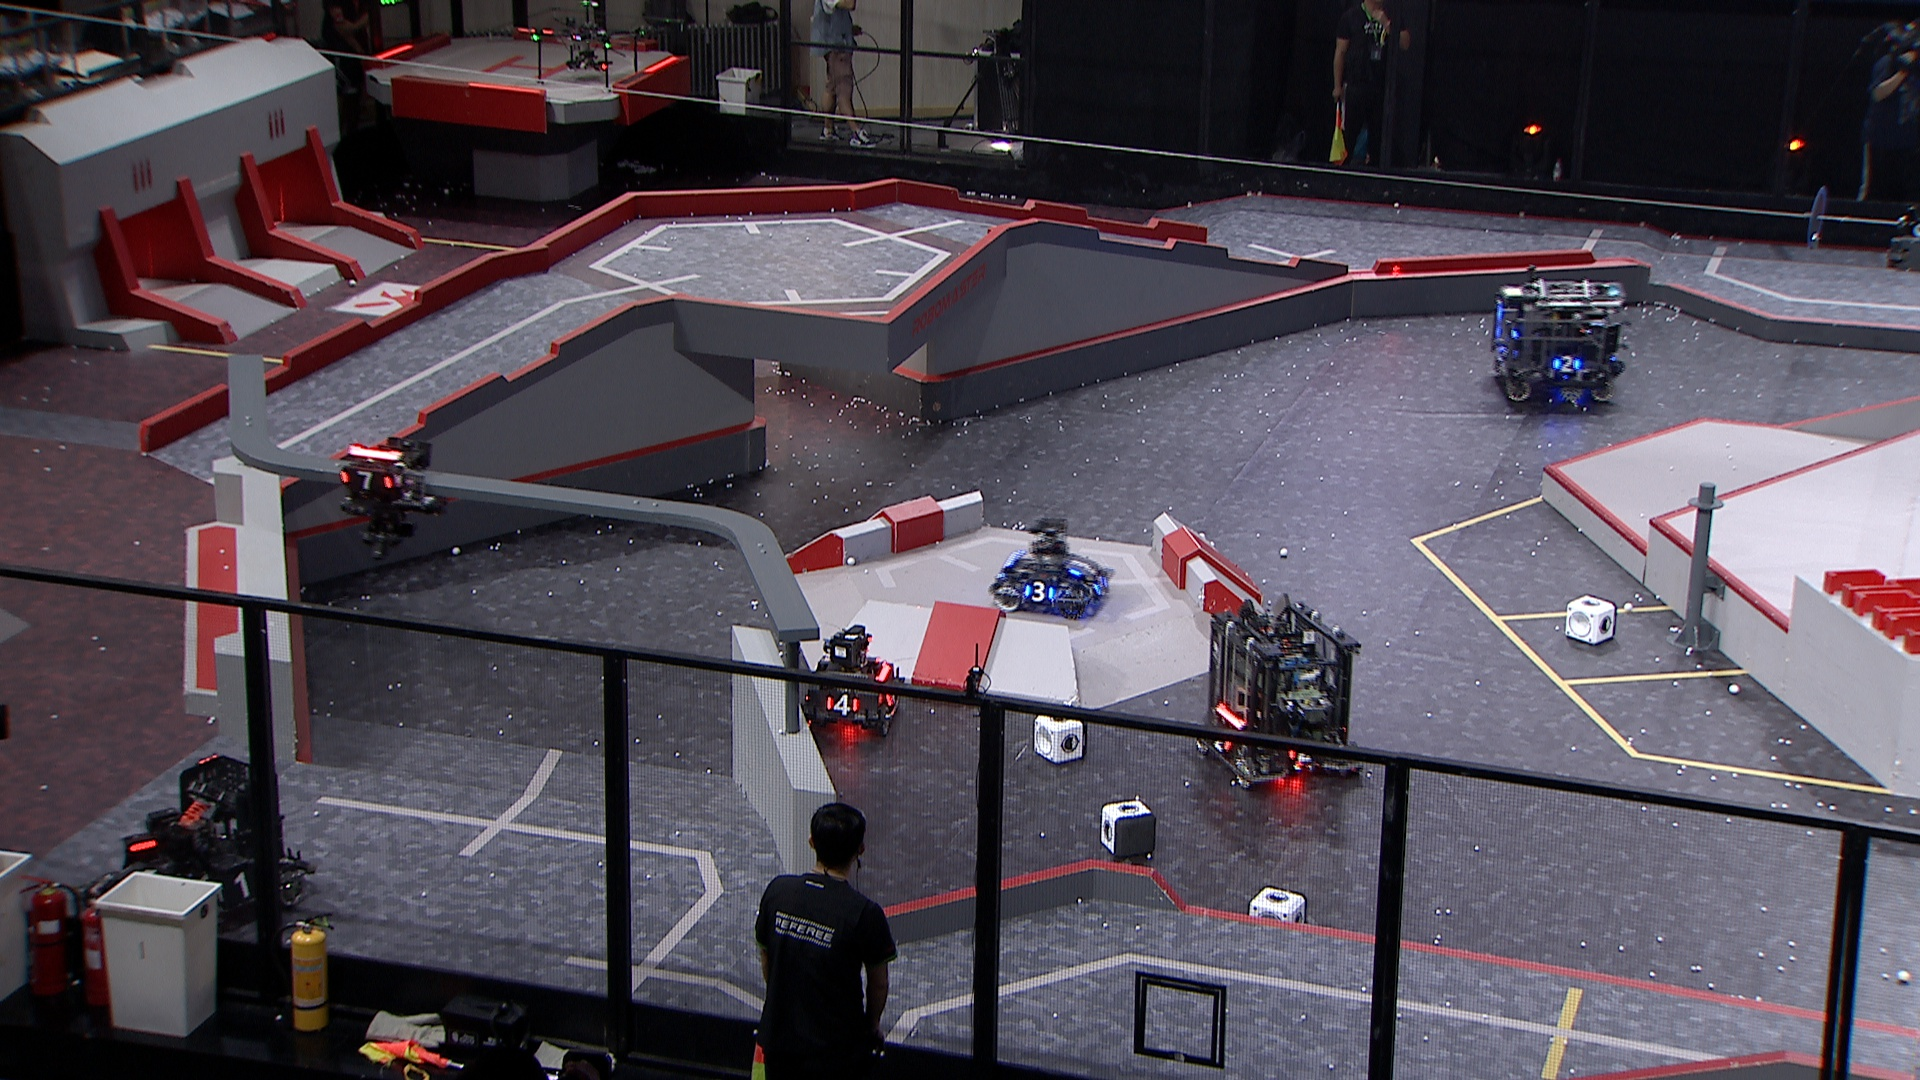armor: (215, 870, 258, 903), (338, 469, 394, 493), (825, 694, 861, 719), (1022, 579, 1058, 604), (1551, 353, 1585, 373), (1067, 559, 1095, 579), (1286, 746, 1315, 764), (1212, 737, 1236, 757), (1093, 572, 1112, 597)
car: (78, 749, 316, 945), (1195, 597, 1367, 787), (1493, 272, 1629, 410), (989, 514, 1112, 618), (796, 624, 906, 737)
watcher: (335, 434, 446, 559)
